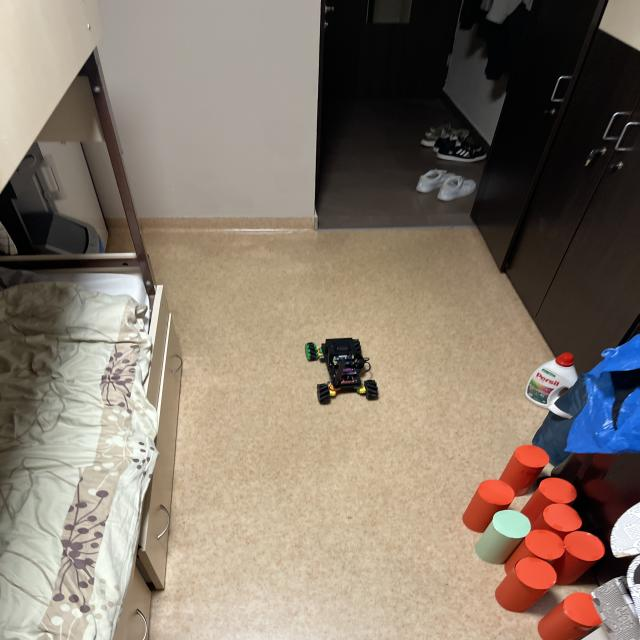robot: (305, 338, 377, 404)
